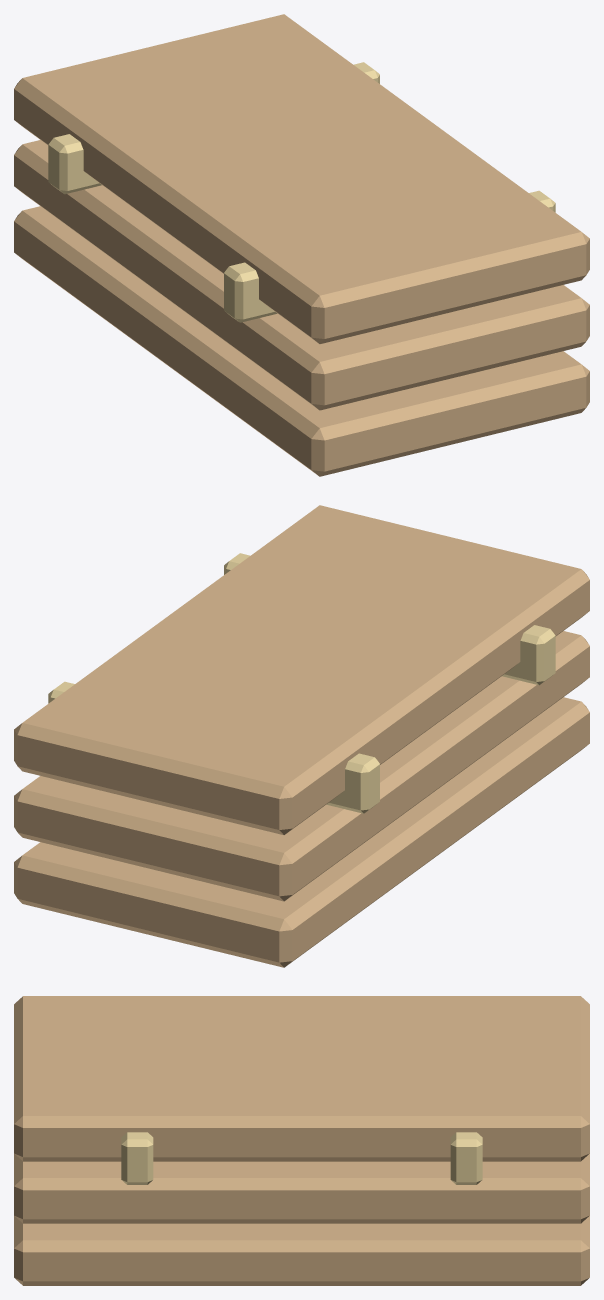
Rendered from cargo_lumber.fbx.
The picture shows the model from 3 angles, top to bottom: view 1: azimuth 30°, elevation 25°; view 2: azimuth 150°, elevation 25°; view 3: azimuth 270°, elevation 25°; orthographic projection. The views are drawn at different scales.
Visible parts, largest first — view 1: cargo_lumber_mesh; view 2: cargo_lumber_mesh; view 3: cargo_lumber_mesh.
Part boxes in pixels (x1,y1,x2,y2): cargo_lumber_mesh: (14, 14, 589, 476); cargo_lumber_mesh: (14, 505, 589, 967); cargo_lumber_mesh: (14, 996, 589, 1285).
Bounding box in the file's own units: 0.38 × 0.205 × 0.63.
